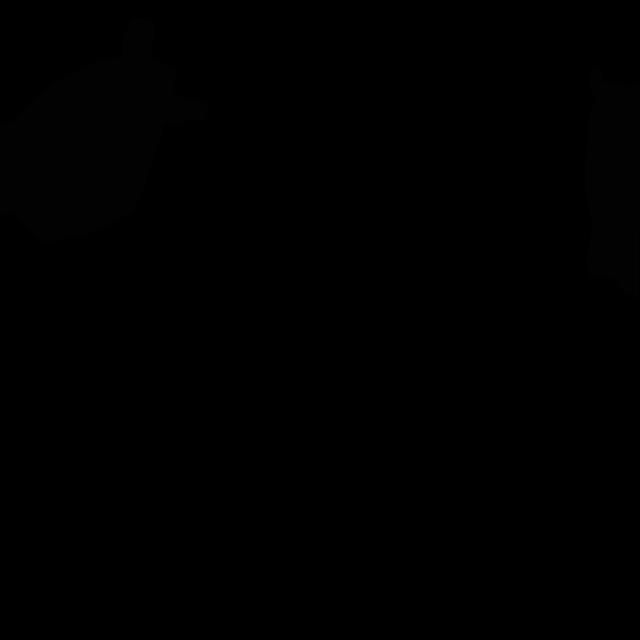cardboard: (0, 17, 208, 243), (585, 68, 640, 300)
